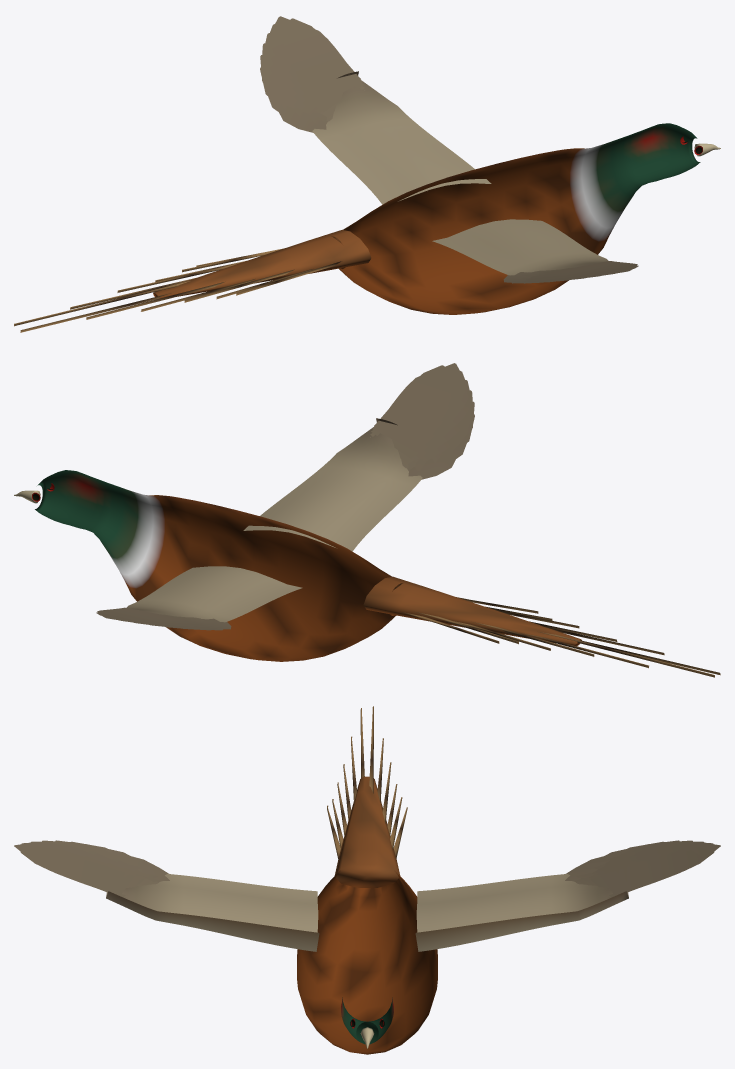
Rendered from SM_Bird_pheasant_flap1.glb.
3 renders of one model, top to bottom at view 1: azimuth 30°, elevation 25°; view 2: azimuth 150°, elevation 25°; view 3: azimuth 270°, elevation 25°, orthographic.
Parts seen in each view (by area): view 1: SM_Bird_pheasant_flap1; view 2: SM_Bird_pheasant_flap1; view 3: SM_Bird_pheasant_flap1.
Boxes of the visible parts, box(x1,y1,x2,y2) form: SM_Bird_pheasant_flap1: box(14, 16, 720, 332); SM_Bird_pheasant_flap1: box(14, 363, 720, 677); SM_Bird_pheasant_flap1: box(14, 706, 720, 1054).
Size of the model in its own units: 0.8785 by 0.2042 by 0.7535.
